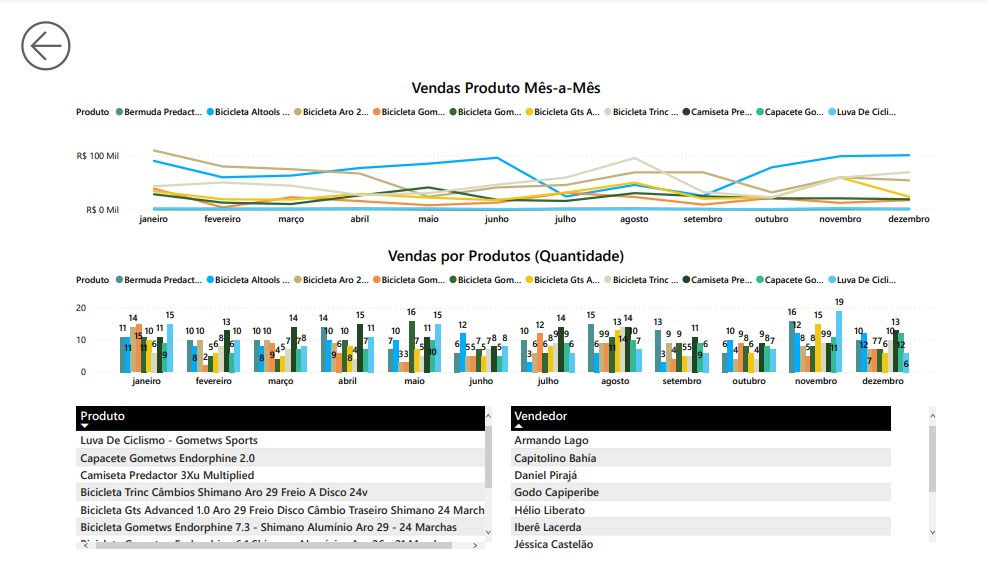

What the dashboard file says about the page in this screenshot:
{"tool":"powerbi","page":{"name":"Venda","canvas":[1280,720],"ordinal":4},"visuals":[{"type":"actionButton","box":[0,0,151.2,82.1],"z":0},{"type":"lineChart","title":"Vendas Produto Mês-a-Mês","fields":{"Y":["Sum(ItensVendas.ValorTotal)"],"Series":["Produtos.Produto"],"Category":["Vendas.Data.Variation.Hierarquia de datas.Mês"]},"box":[76.3,82.1,1154.9,207.4],"z":1000},{"type":"clusteredColumnChart","title":"Vendas por Produtos (Quantidade)","fields":{"Category":["Vendas.Data.Variation.Hierarquia de datas.Mês"],"Y":["Sum(ItensVendas.Quantidade)"],"Series":["Produtos.Produto"]},"box":[76.3,305.3,1154.9,200.2],"z":2000},{"type":"tableEx","fields":{"Values":["Produtos.Produto"]},"box":[76.3,515.5,563,200.2],"z":3000},{"type":"tableEx","fields":{"Values":["Vendedores.Vendedor"]},"box":[653.8,515.5,577.4,200.2],"z":4000}]}

Visuals, with their boxes in screenshot pixels (x1, y1, x2, y2), scaled from the page's 1280x720 canvas onto the 988x562 screenshot:
actionButton: bbox=[0, 0, 117, 64]
"Vendas Produto Mês-a-Mês" lineChart: bbox=[59, 64, 950, 226]
"Vendas por Produtos (Quantidade)" clusteredColumnChart: bbox=[59, 238, 950, 395]
tableEx - Produtos.Produto: bbox=[59, 402, 493, 559]
tableEx - Vendedores.Vendedor: bbox=[505, 402, 950, 559]
